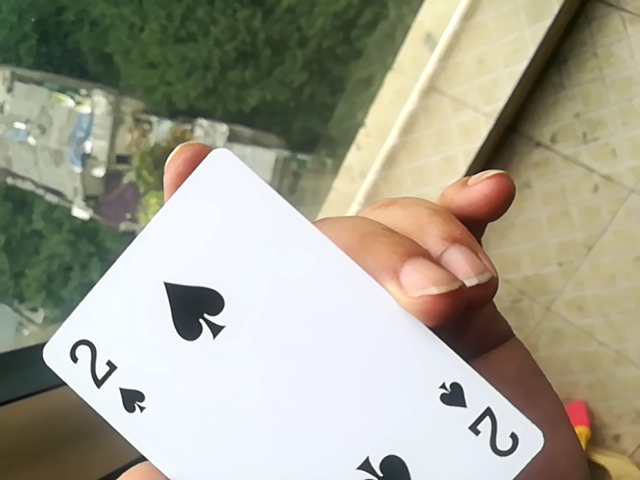ht 2: (20, 140, 537, 480)
